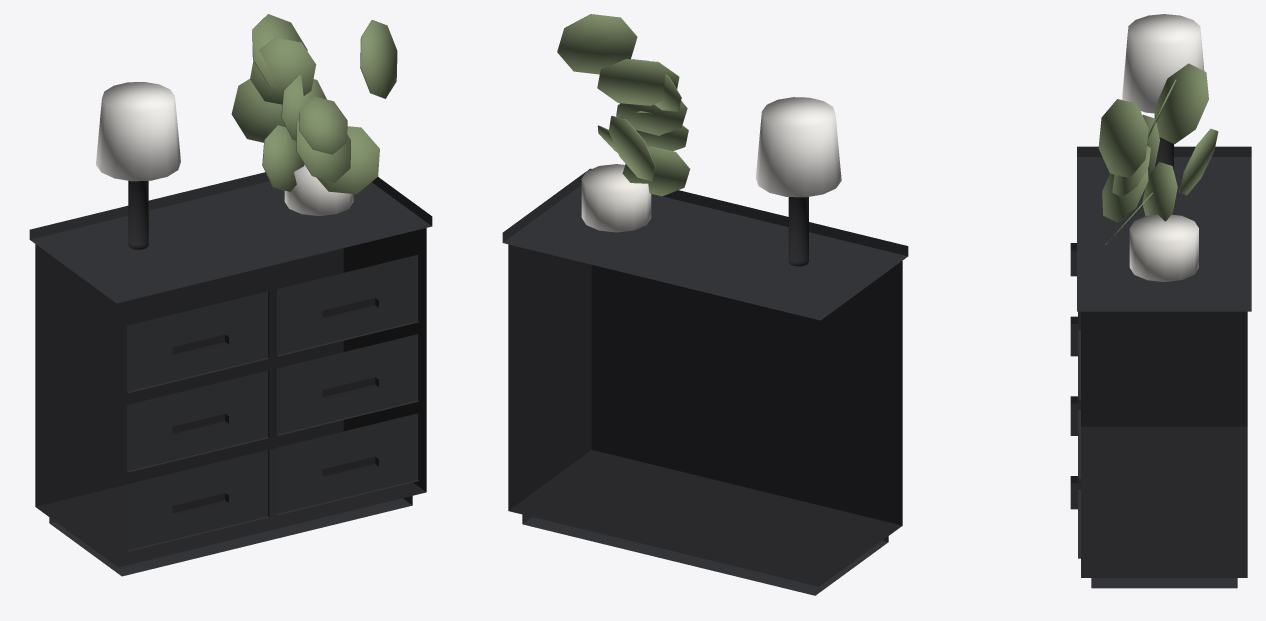
The model's file is guest_dresser.glb.
The picture shows the model from 3 angles, left to right: view 1: azimuth 30°, elevation 25°; view 2: azimuth 150°, elevation 25°; view 3: azimuth 270°, elevation 25°; orthographic projection.
Parts seen in each view (by area): view 1: root; view 2: root; view 3: root.
Boxes of the visible parts, x1=… form: root: x1=29, y1=14, x2=432, y2=576; root: x1=502, y1=14, x2=908, y2=595; root: x1=1070, y1=14, x2=1251, y2=588.
Bounding box in the file's own units: 1.28 × 1.57 × 0.8601.
